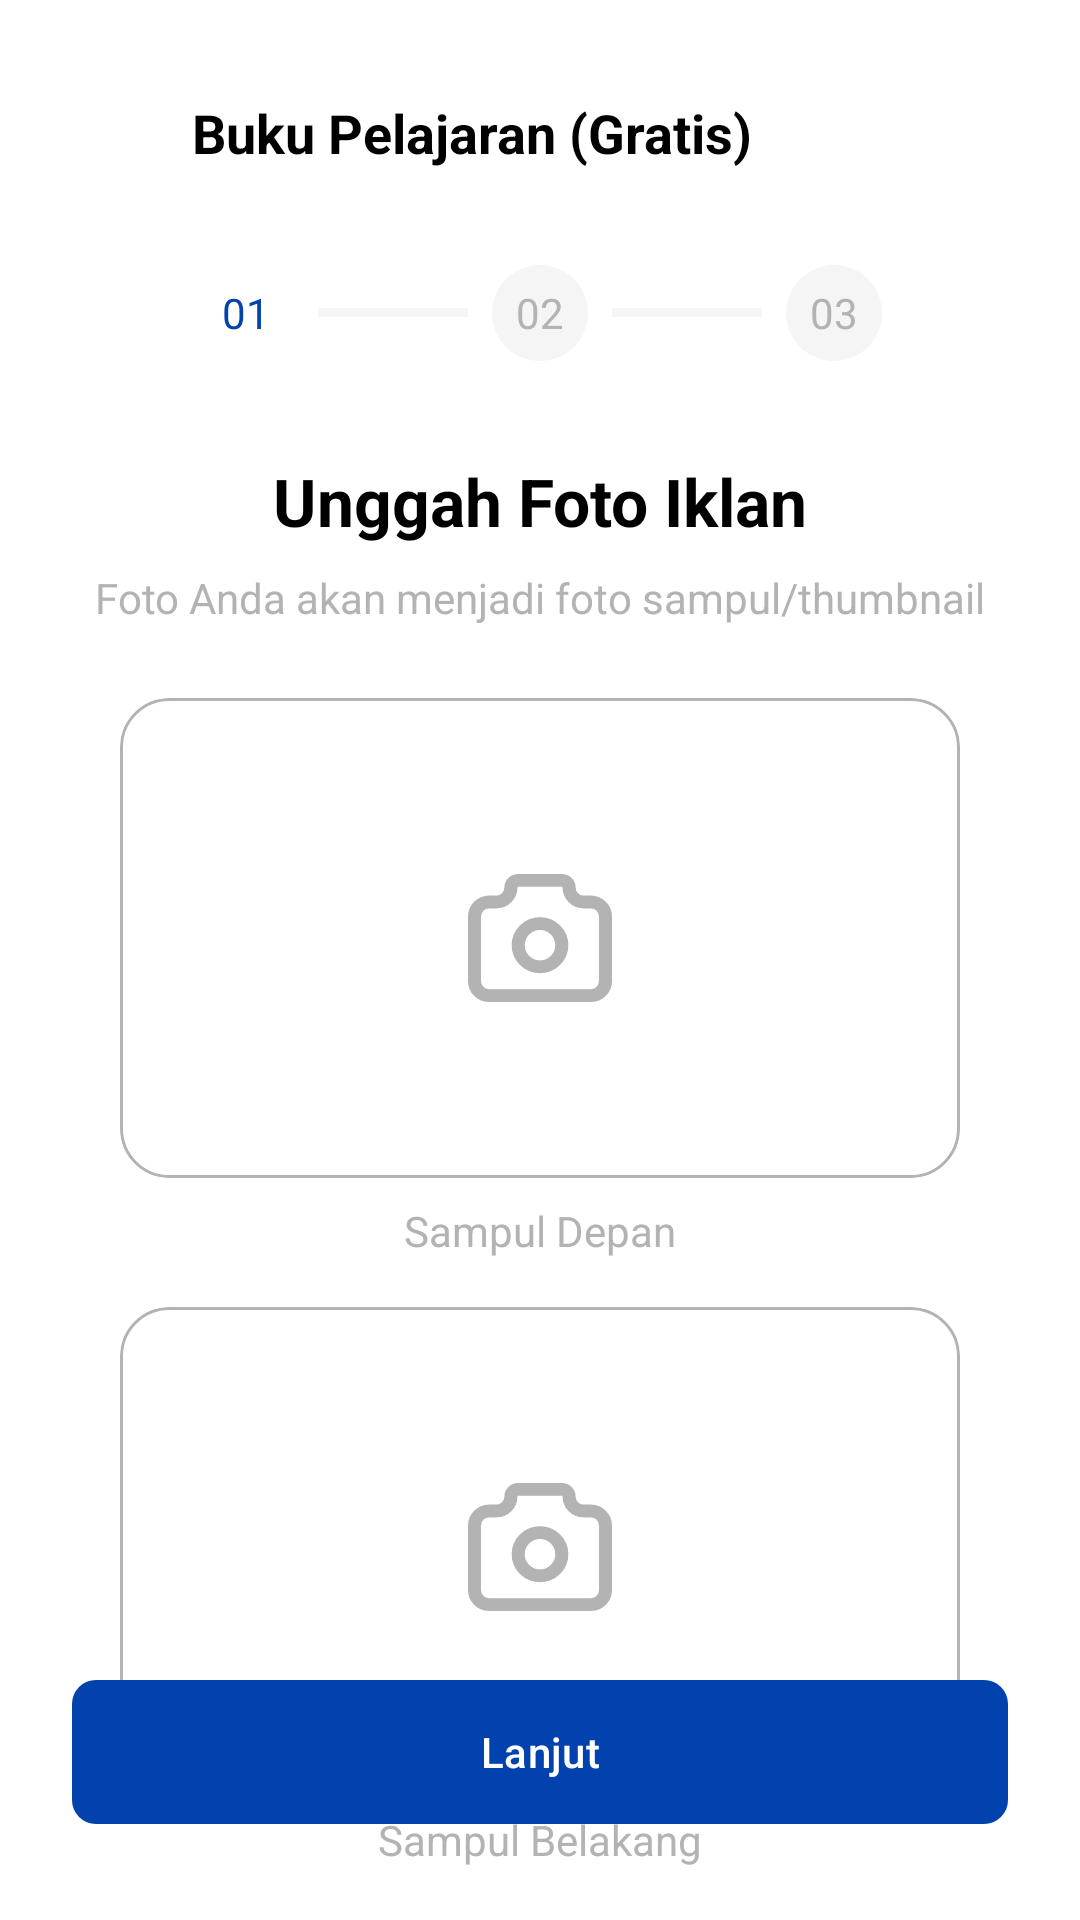

Screen size 1080px x 1920px. Icon name, then its box in pixels as [x1, y1, x2, y2]:
camera: [468, 874, 612, 1002], [468, 1483, 612, 1611]
